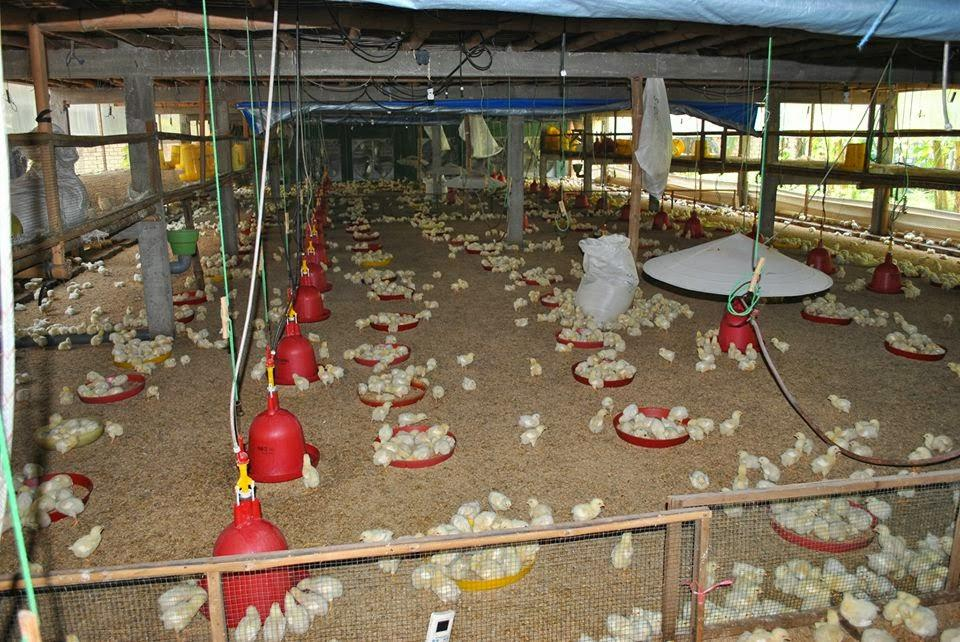chicken: (158, 595, 209, 636), (70, 522, 105, 558), (842, 589, 876, 625), (900, 604, 937, 637), (432, 562, 460, 604), (299, 574, 346, 599), (874, 522, 906, 558), (283, 591, 308, 632), (611, 529, 636, 569), (525, 494, 553, 529), (293, 589, 330, 615), (887, 592, 918, 623), (236, 604, 260, 641), (812, 446, 842, 475), (572, 498, 606, 522), (631, 607, 662, 633), (817, 610, 843, 641), (57, 496, 84, 524), (606, 614, 638, 637), (264, 600, 281, 642), (924, 432, 954, 454), (360, 527, 395, 545), (521, 424, 548, 447), (304, 451, 319, 492), (722, 409, 744, 436), (826, 393, 851, 414), (857, 418, 881, 439), (372, 400, 394, 422), (590, 409, 610, 433), (758, 458, 779, 480), (490, 492, 514, 511), (739, 449, 759, 470), (317, 366, 334, 390), (689, 470, 709, 490), (734, 465, 749, 491), (771, 334, 791, 353), (398, 412, 427, 425), (794, 432, 812, 451), (106, 421, 126, 438), (459, 351, 478, 368), (291, 373, 309, 390), (528, 357, 543, 377), (669, 406, 687, 422), (693, 417, 712, 432), (686, 425, 705, 440), (326, 363, 346, 377), (519, 413, 542, 425), (463, 375, 476, 390), (432, 386, 445, 400), (604, 397, 616, 410), (428, 357, 438, 371)
